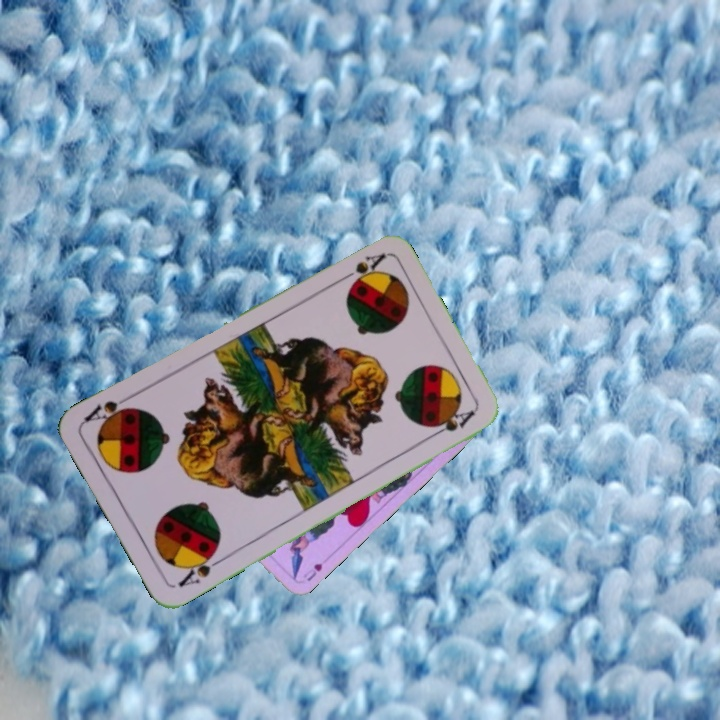HU: (298, 559, 325, 584)
SA: (174, 545, 226, 590), (333, 250, 388, 285)
